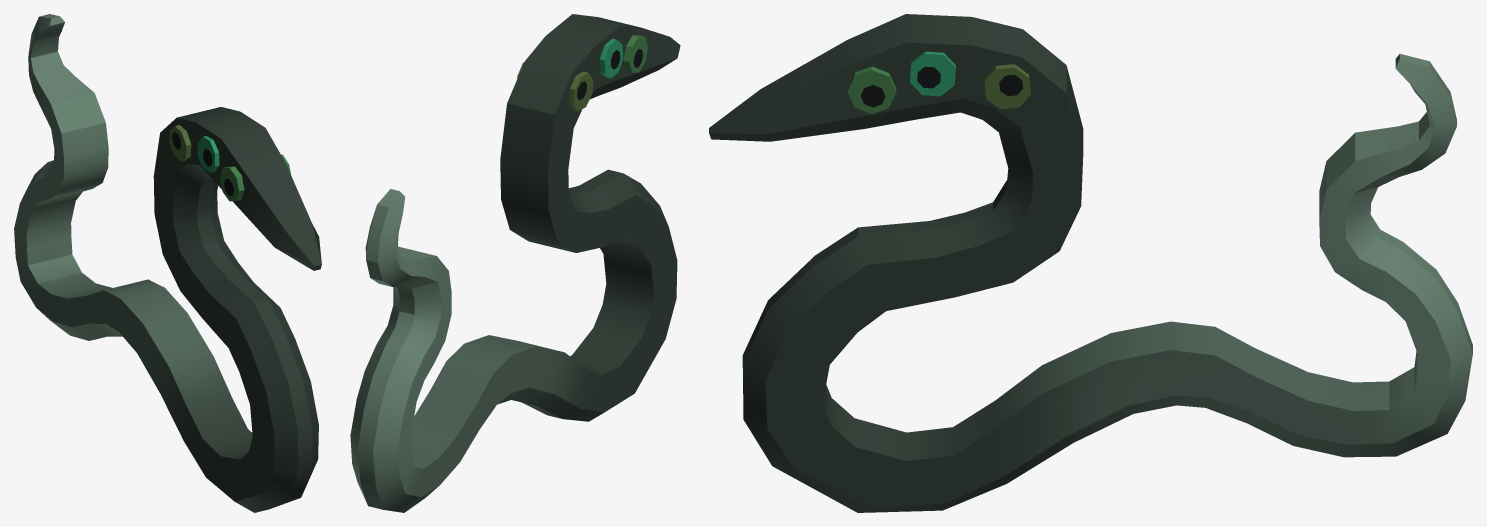
The model's file is fish5.fbx.
3 views of the same model, side by side, from view 1: azimuth 30°, elevation 25°; view 2: azimuth 150°, elevation 25°; view 3: azimuth 270°, elevation 25° (orthographic). The views are drawn at different scales.
Visible parts, largest first — view 1: fish5; view 2: fish5; view 3: fish5.
Part boxes in pixels (x1,y1,x2,y2): fish5: (14,14,321,512); fish5: (350,14,680,512); fish5: (709,14,1472,512).
Bounding box in the file's own units: 25.69 × 164 × 237.
1 material, 1 textured.
